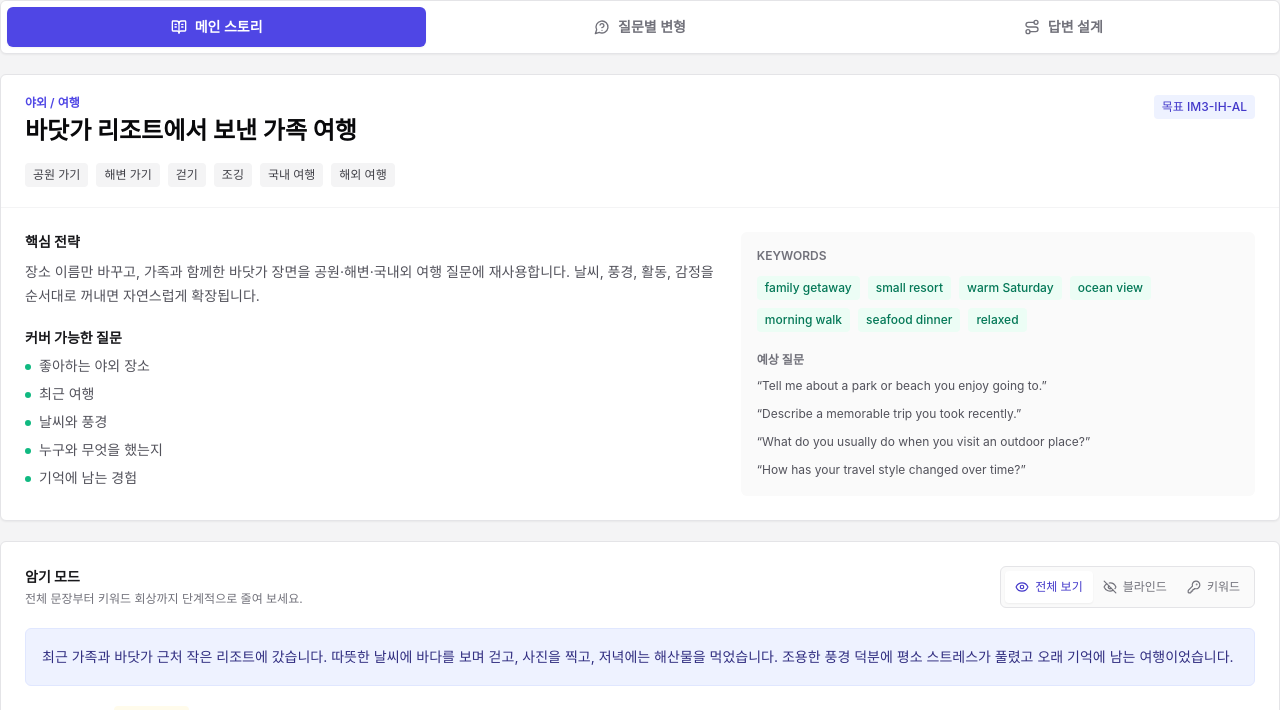
Test case: ScriptTrainingTabs › shows question variants and the answer blueprint for the selected scene
Click the tab "질문별 변형".
click(640, 27)  # box [430,7,850,47]
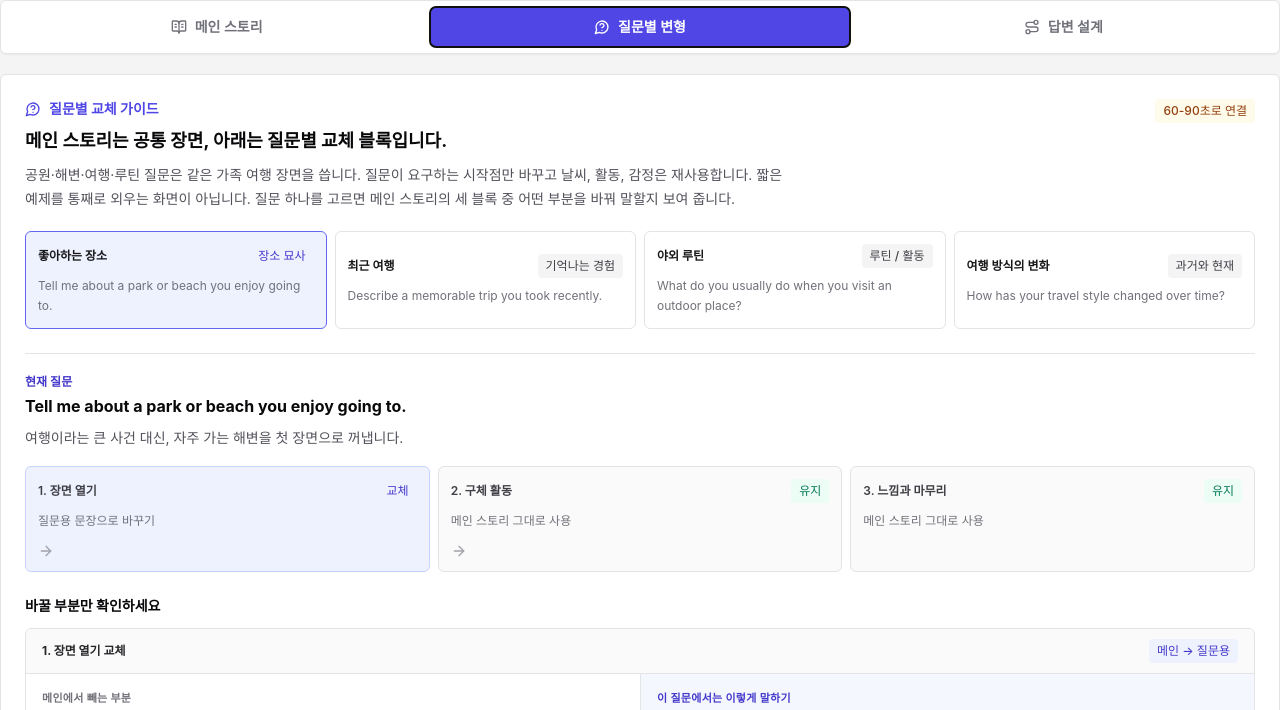
Expected: the text "좋아하는 장소" is shown, [38,248,107,264]
Expected: the text "Tell me about a park or beach you enjoy going to." is shown 2 times, [38,276,314,316]; [25,396,407,416]
Click the tab "답변 설계".
click(1063, 27)  # box [854,7,1273,47]
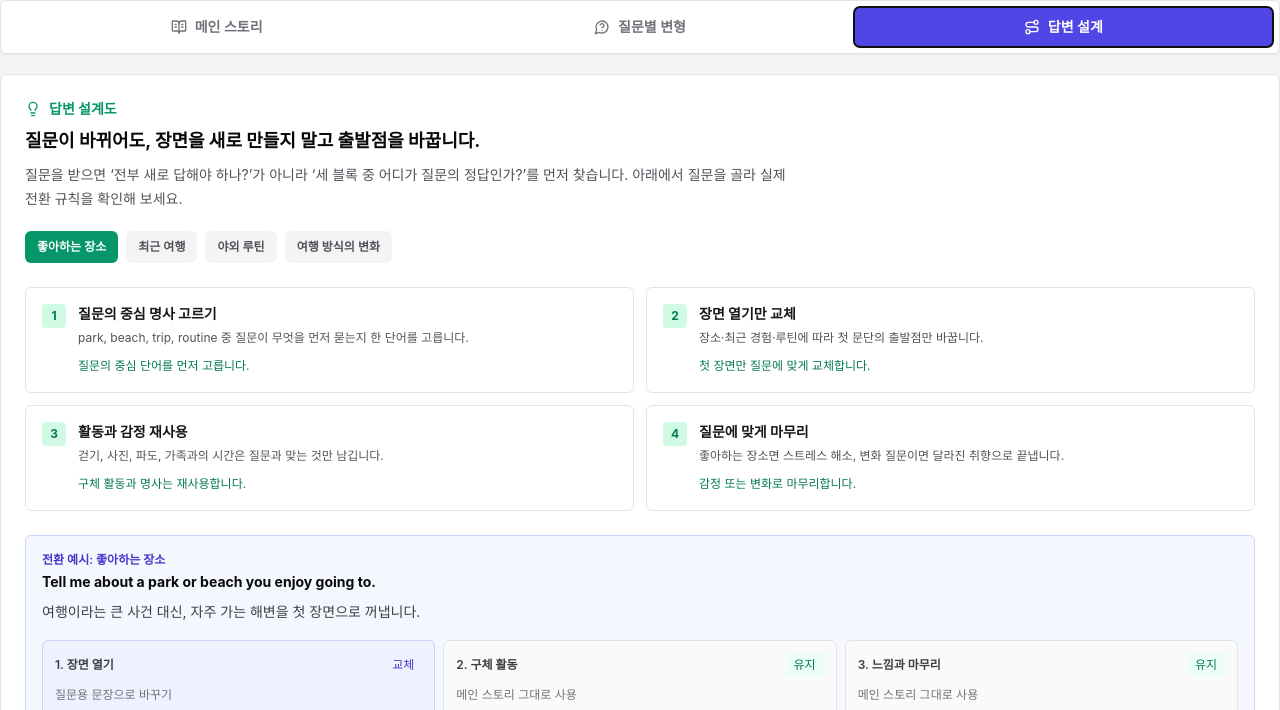
Expected: the text "질문의 중심 명사 고르기" is shown, [78,305,217,322]
Expected: the heading "질문이 바뀌어도, 장면을 새로 만들지 말고 출발점을 바꿉니다." is shown, [25,130,480,151]
